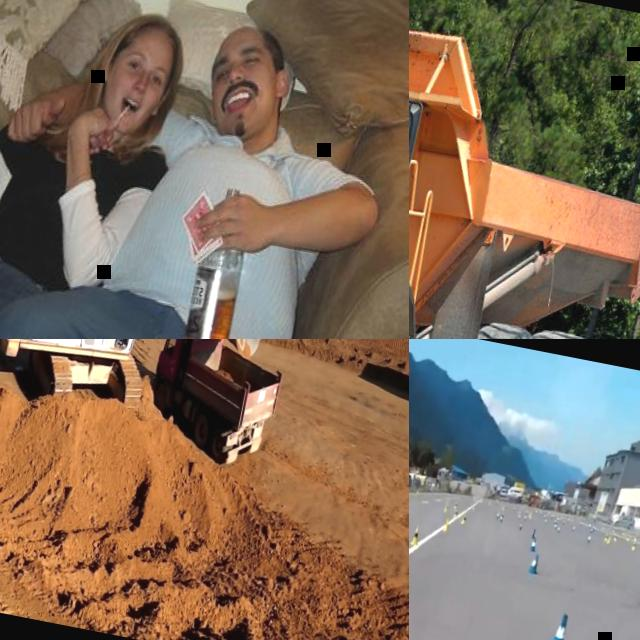NO-Hardhat: (119, 8, 193, 61), (218, 22, 285, 60)
NO-Mask: (209, 56, 292, 141), (96, 73, 164, 137)
NO-Safety Vest: (101, 103, 333, 339), (0, 104, 164, 299)
Person: (0, 0, 409, 339), (0, 0, 198, 339)
Safety Cone: (545, 609, 575, 640), (528, 550, 542, 576), (409, 524, 423, 549), (443, 515, 453, 534), (529, 536, 540, 552), (461, 511, 468, 526), (444, 501, 450, 514), (587, 534, 593, 546), (454, 508, 459, 520), (497, 508, 502, 520), (499, 513, 504, 524), (605, 532, 610, 543), (519, 522, 524, 532), (606, 536, 611, 546), (557, 526, 562, 536), (632, 542, 636, 552), (417, 488, 421, 496)
vehicle: (409, 0, 640, 339), (0, 339, 304, 438), (140, 339, 292, 473)
